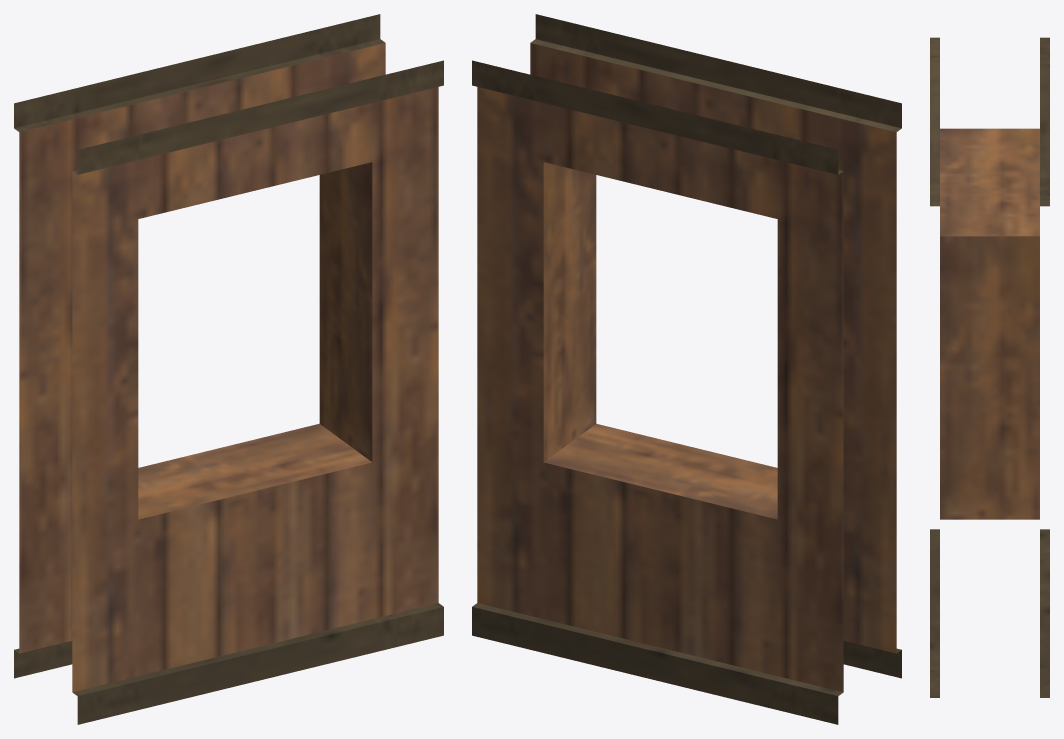
Rendered from MS_3mWallpiece_Window.fbx.
The picture shows the model from 3 angles, left to right: view 1: azimuth 30°, elevation 25°; view 2: azimuth 150°, elevation 25°; view 3: azimuth 270°, elevation 25°; orthographic projection. The views are drawn at different scales.
Visible parts, largest first — view 1: Cube; view 2: Cube; view 3: Cube.
Part boxes in pixels (x1,y1,x2,y2): Cube: (14, 14, 443, 724); Cube: (472, 14, 901, 724); Cube: (930, 37, 1049, 697).
Size of the model in its own units: 200 by 300 by 60.
